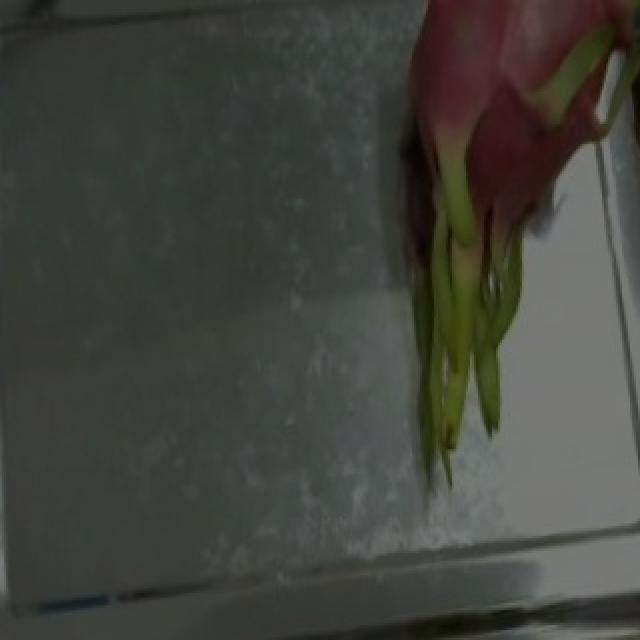fruit: (306, 2, 640, 417)
